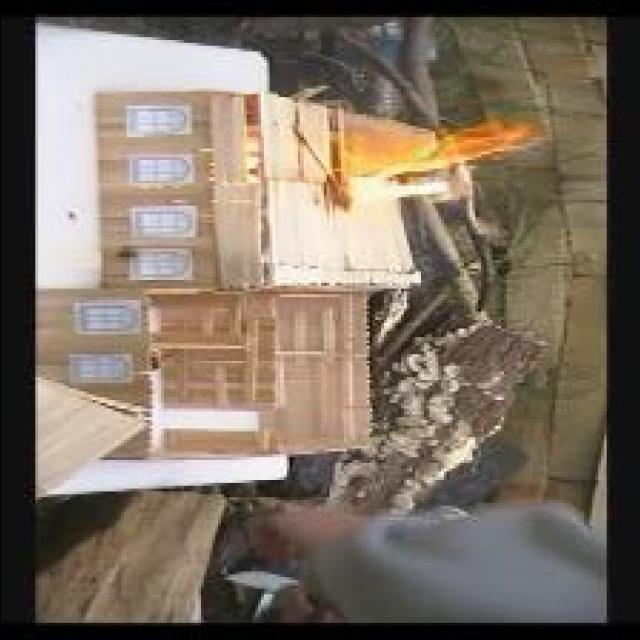Fire: (347, 121, 530, 202)
